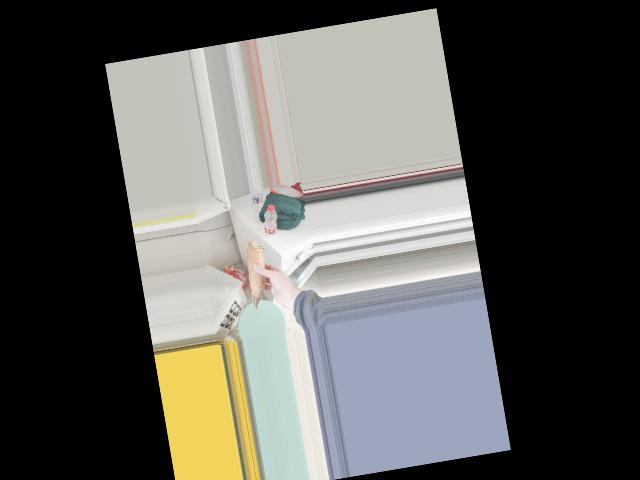sweet_potato: (243, 243, 272, 308)
